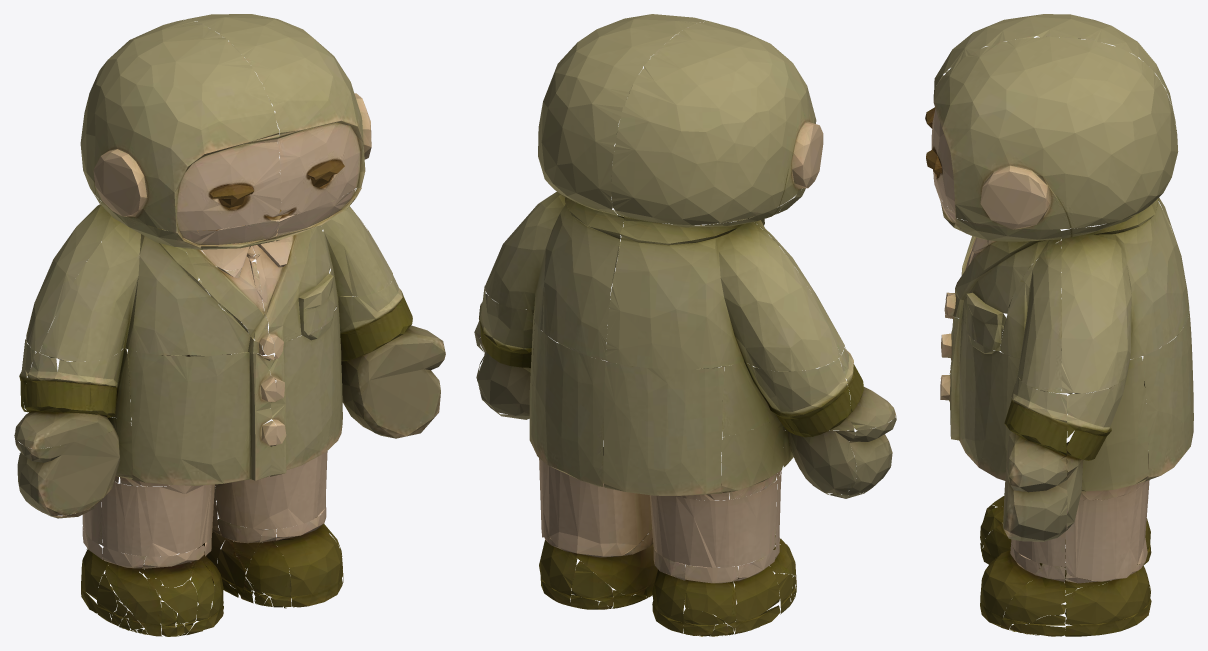
Rendered from npc_a.glb.
3 renders of one model, left to right at view 1: azimuth 30°, elevation 25°; view 2: azimuth 150°, elevation 25°; view 3: azimuth 270°, elevation 25°, orthographic. The views are drawn at different scales.
Visible parts, largest first — view 1: world; view 2: world; view 3: world.
Boxes of the visible parts, left/top/right/bottom form: world: left=14, top=14, right=445, bottom=636; world: left=474, top=14, right=896, bottom=636; world: left=925, top=14, right=1193, bottom=636.
Bounding box in the file's own units: 0.7845 × 1 × 0.4458.
1 material, 1 textured.
